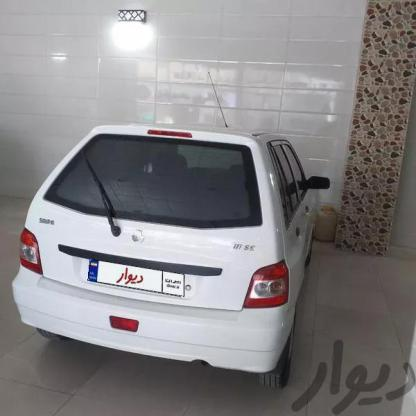Car: (10, 100, 329, 405)
